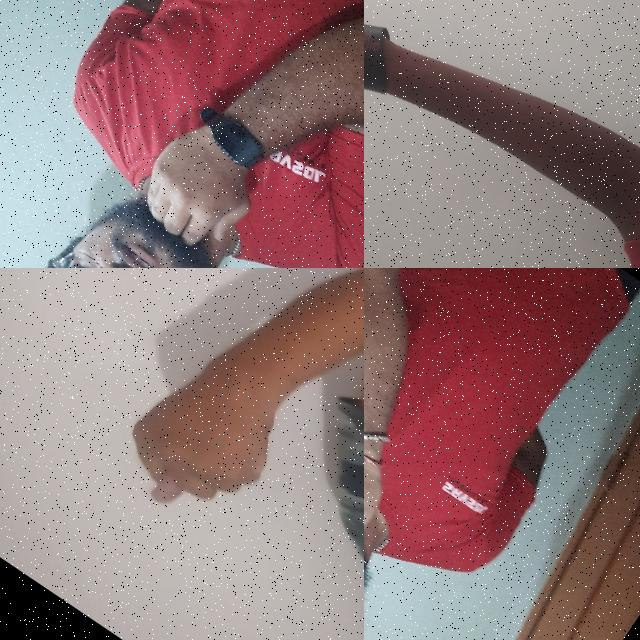Chin Flick: (14, 88, 294, 268), (364, 422, 436, 640)
Dulya: (96, 299, 332, 552)
Thumbs Up: (364, 0, 426, 173)
